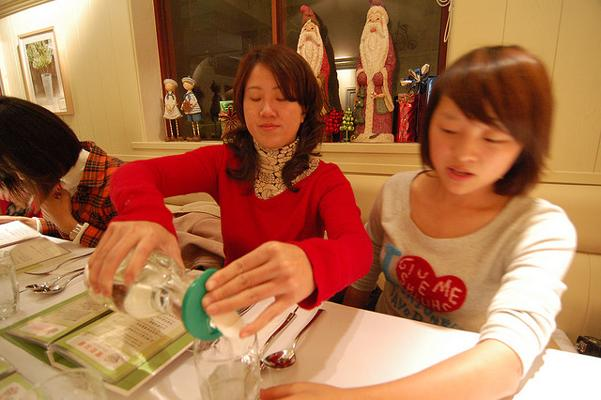person: (87, 44, 374, 339)
